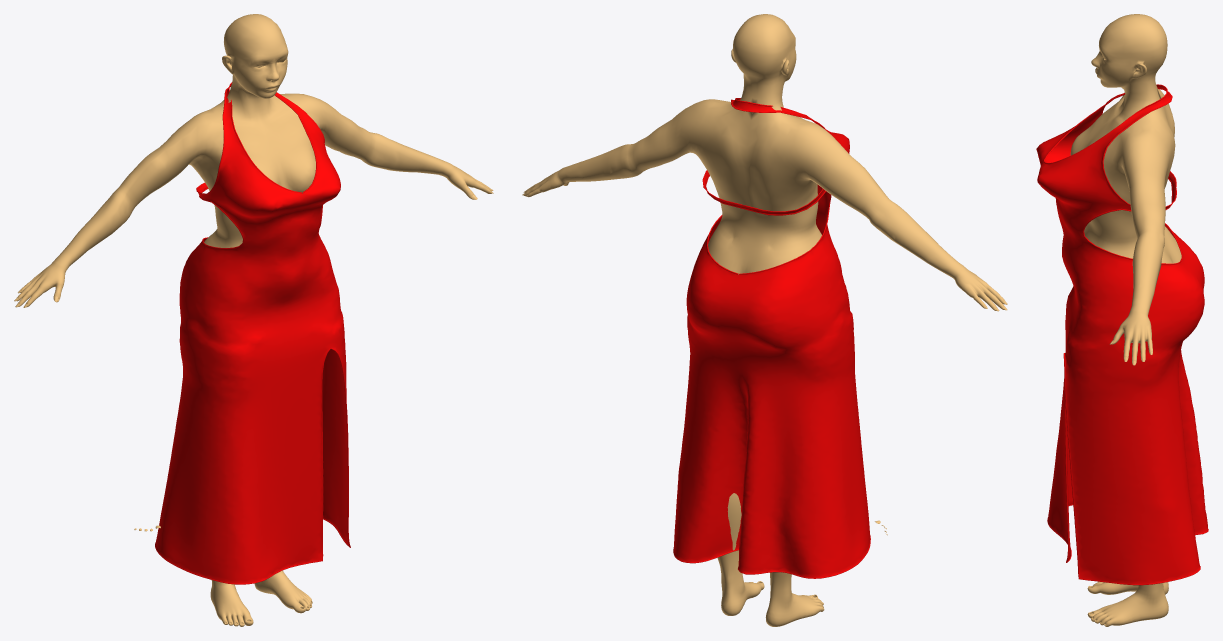
File: dress3.glb
3 renders of one model, left to right at view 1: azimuth 30°, elevation 25°; view 2: azimuth 150°, elevation 25°; view 3: azimuth 270°, elevation 25°, orthographic.
Visible parts, largest first — view 1: EveningDress, Body.003; view 2: EveningDress, Body.003; view 3: EveningDress, Body.003.
Boxes of the visible parts, box(x1,y1,x2,y2) form: EveningDress: box(155, 82, 350, 584); Body.003: box(16, 14, 493, 626); EveningDress: box(673, 98, 870, 578); Body.003: box(523, 14, 1004, 626); EveningDress: box(1036, 84, 1208, 585); Body.003: box(1070, 14, 1181, 626).
Size of the model in its own units: 1.58 by 1.85 by 0.4898.
